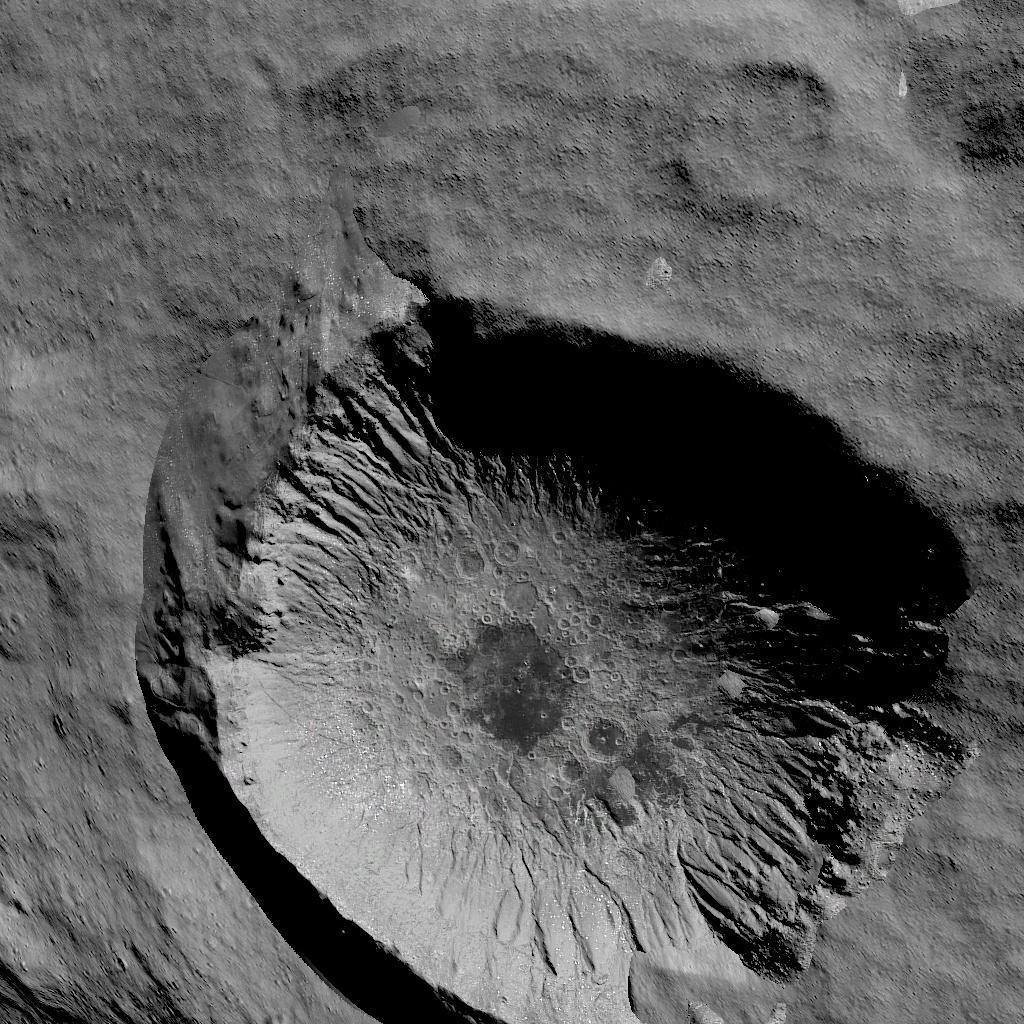Crater: (110, 273, 978, 1024)
Plan surface: (9, 0, 1024, 260)
